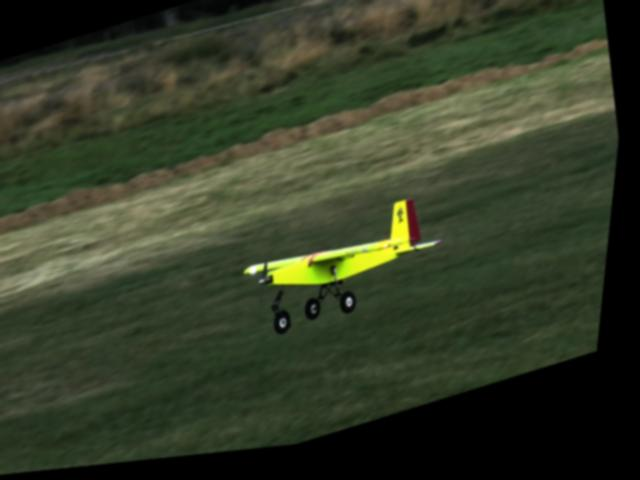plane: (238, 198, 461, 352)
